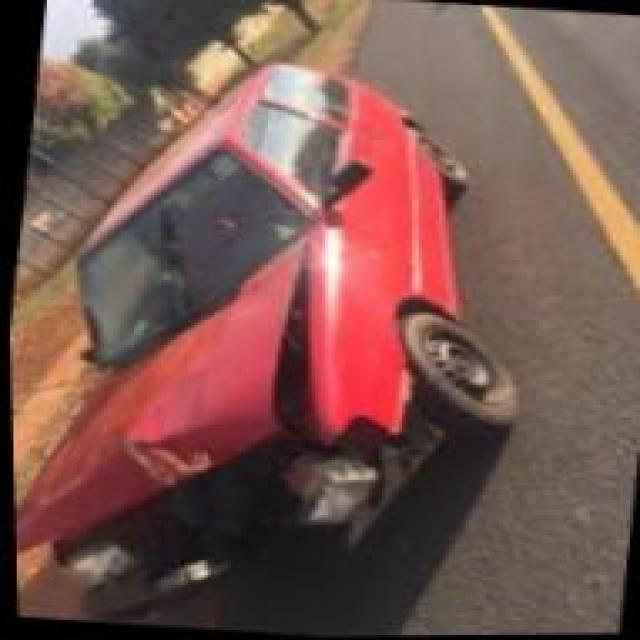Bonnet: (12, 233, 309, 566)
Bumper: (68, 403, 442, 626)
Light: (267, 431, 396, 546), (14, 523, 149, 605)
